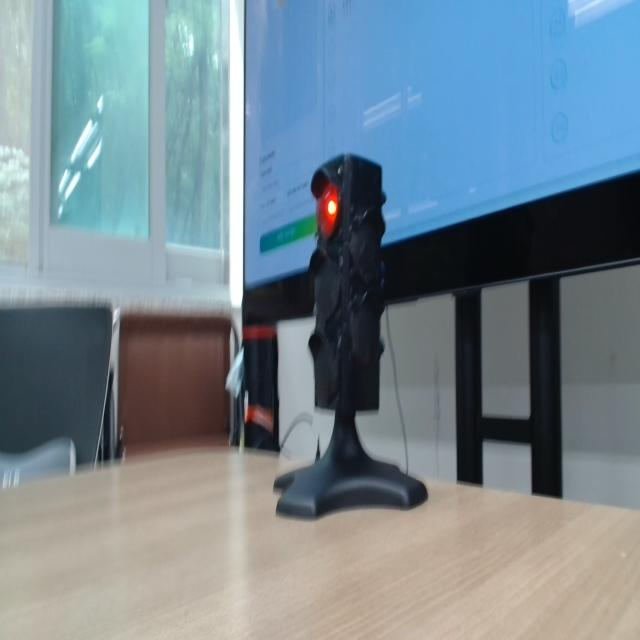red_light: (317, 183, 338, 238), (327, 200, 336, 215)
